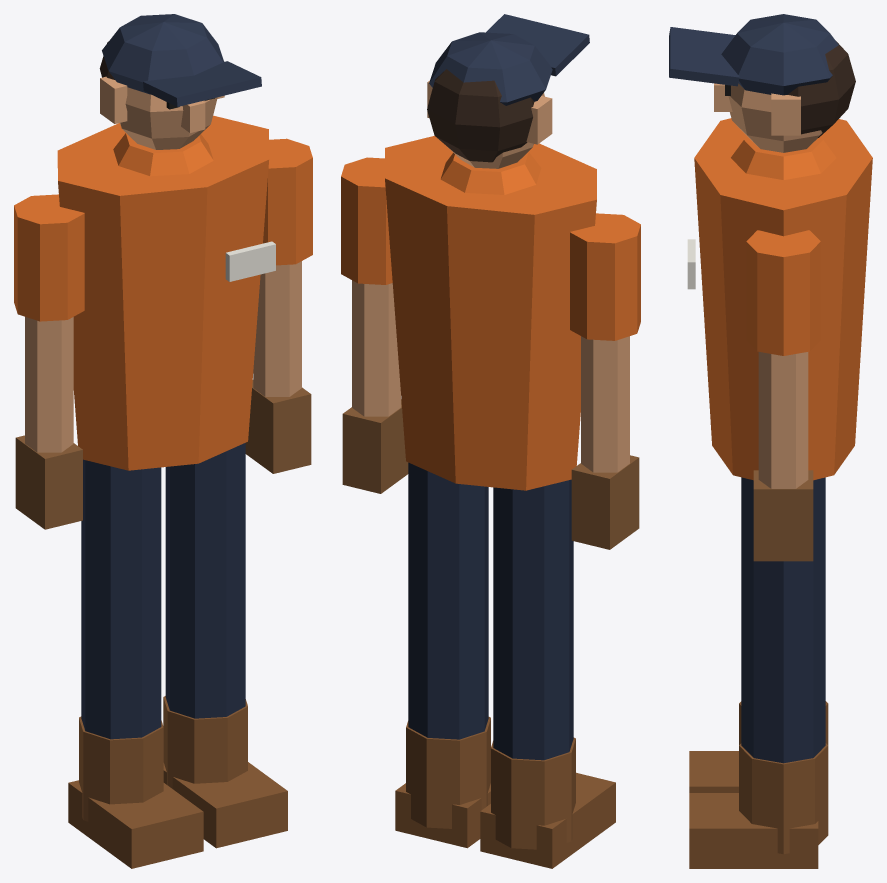
Rendered from person.glb.
3 views of the same model, side by side, from view 1: azimuth 30°, elevation 25°; view 2: azimuth 150°, elevation 25°; view 3: azimuth 270°, elevation 25° (orthographic).
Parts seen in each view (by area): view 1: Torso, Leg.001, Leg, Person_ArmR_Sleeve, BootToe.001, CapTop, Person_ArmR_Forearm, BootToe, Person_ArmL_Forearm, BootTop.001, BootTop, Person_ArmL_Sleeve (+8 smaller); view 2: Torso, Leg.001, Leg, Person_ArmR_Sleeve, BootTop.001, BootTop, Hair, Person_ArmR_Forearm, Person_ArmL_Forearm, Person_ArmL_Sleeve, CapTop, BootToe.001 (+7 smaller); view 3: Torso, Leg, Person_ArmL_Sleeve, BootToe, CapTop, Person_ArmL_Forearm, BootTop, Person_ArmL_Glove, CapBrim, Hair, Collar, Head (+3 smaller).
Part boxes in pixels (<box>): Torso: <box>57,115,269,470</box>; Leg.001: <box>81,459,161,739</box>; Leg: <box>165,443,245,718</box>; Person_ArmR_Sleeve: <box>14,194,84,321</box>; BootToe.001: <box>68,780,203,868</box>; CapTop: <box>102,14,223,94</box>; Person_ArmR_Forearm: <box>25,317,73,452</box>; BootToe: <box>163,762,287,848</box>; Person_ArmL_Forearm: <box>253,261,301,396</box>; BootTop.001: <box>79,716,163,821</box>; BootTop: <box>163,696,247,788</box>; Person_ArmL_Sleeve: <box>263,138,312,265</box>; Torso: <box>385,136,596,490</box>; Leg.001: <box>493,479,573,760</box>; Leg: <box>408,462,488,739</box>; Person_ArmR_Sleeve: <box>570,213,640,340</box>; BootTop.001: <box>491,737,575,849</box>; BootTop: <box>406,717,490,828</box>; Hair: <box>427,69,534,162</box>; Person_ArmR_Forearm: <box>581,336,629,472</box>; Person_ArmL_Forearm: <box>352,280,400,416</box>; Person_ArmL_Sleeve: <box>341,157,392,284</box>; CapTop: <box>429,32,552,105</box>; BootToe.001: <box>480,772,615,868</box>; Torso: <box>694,118,872,480</box>; Leg: <box>741,477,825,763</box>; Person_ArmL_Sleeve: <box>746,230,820,355</box>; BootToe: <box>689,793,818,868</box>; CapTop: <box>721,14,838,95</box>; Person_ArmL_Forearm: <box>758,352,808,488</box>; BootTop: <box>739,743,828,854</box>; Person_ArmL_Glove: <box>753,470,813,561</box>; CapBrim: <box>669,27,739,86</box>; Hair: <box>787,41,855,137</box>; Collar: <box>731,136,836,180</box>; Head: <box>728,83,822,152</box>.
Bounding box in the file's own units: 0.69 × 1.8 × 0.4107.
